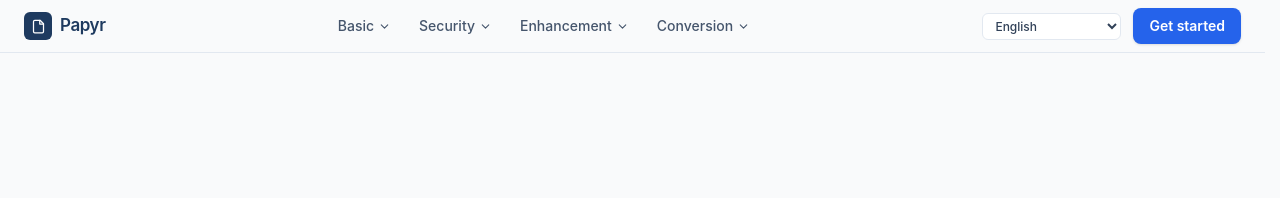
Test: SH-05 Navbar — DOM interaction › mobile toggle › toggles aria-expanded on hamburger when opening and closing
Step 1. Click the button "Basic" → (364, 26), box [326,10,403,42]
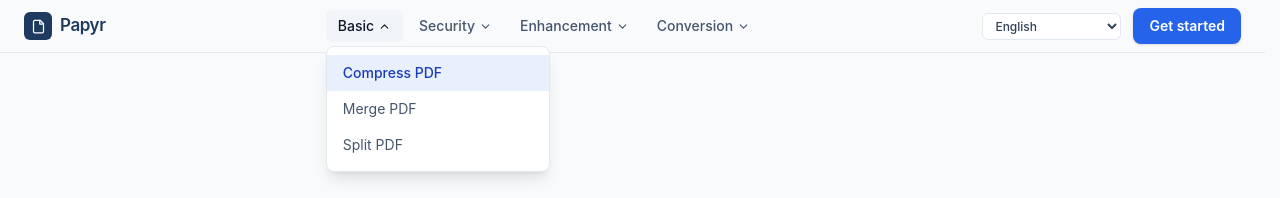
Step 2. Click the button "Basic" → (364, 26), box [326,10,403,42]
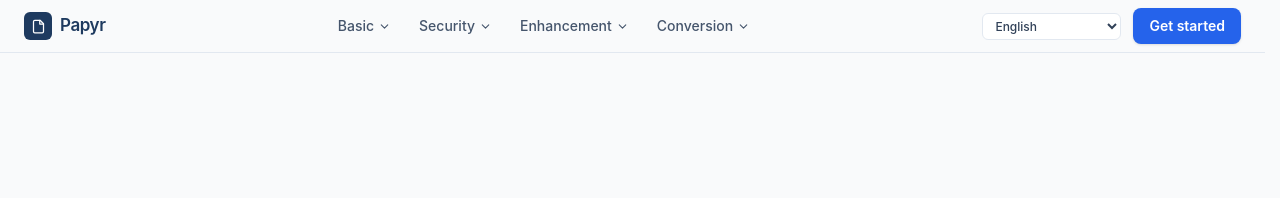
Check: the text "Compress PDF Merge PDF Split PDF" is gone
